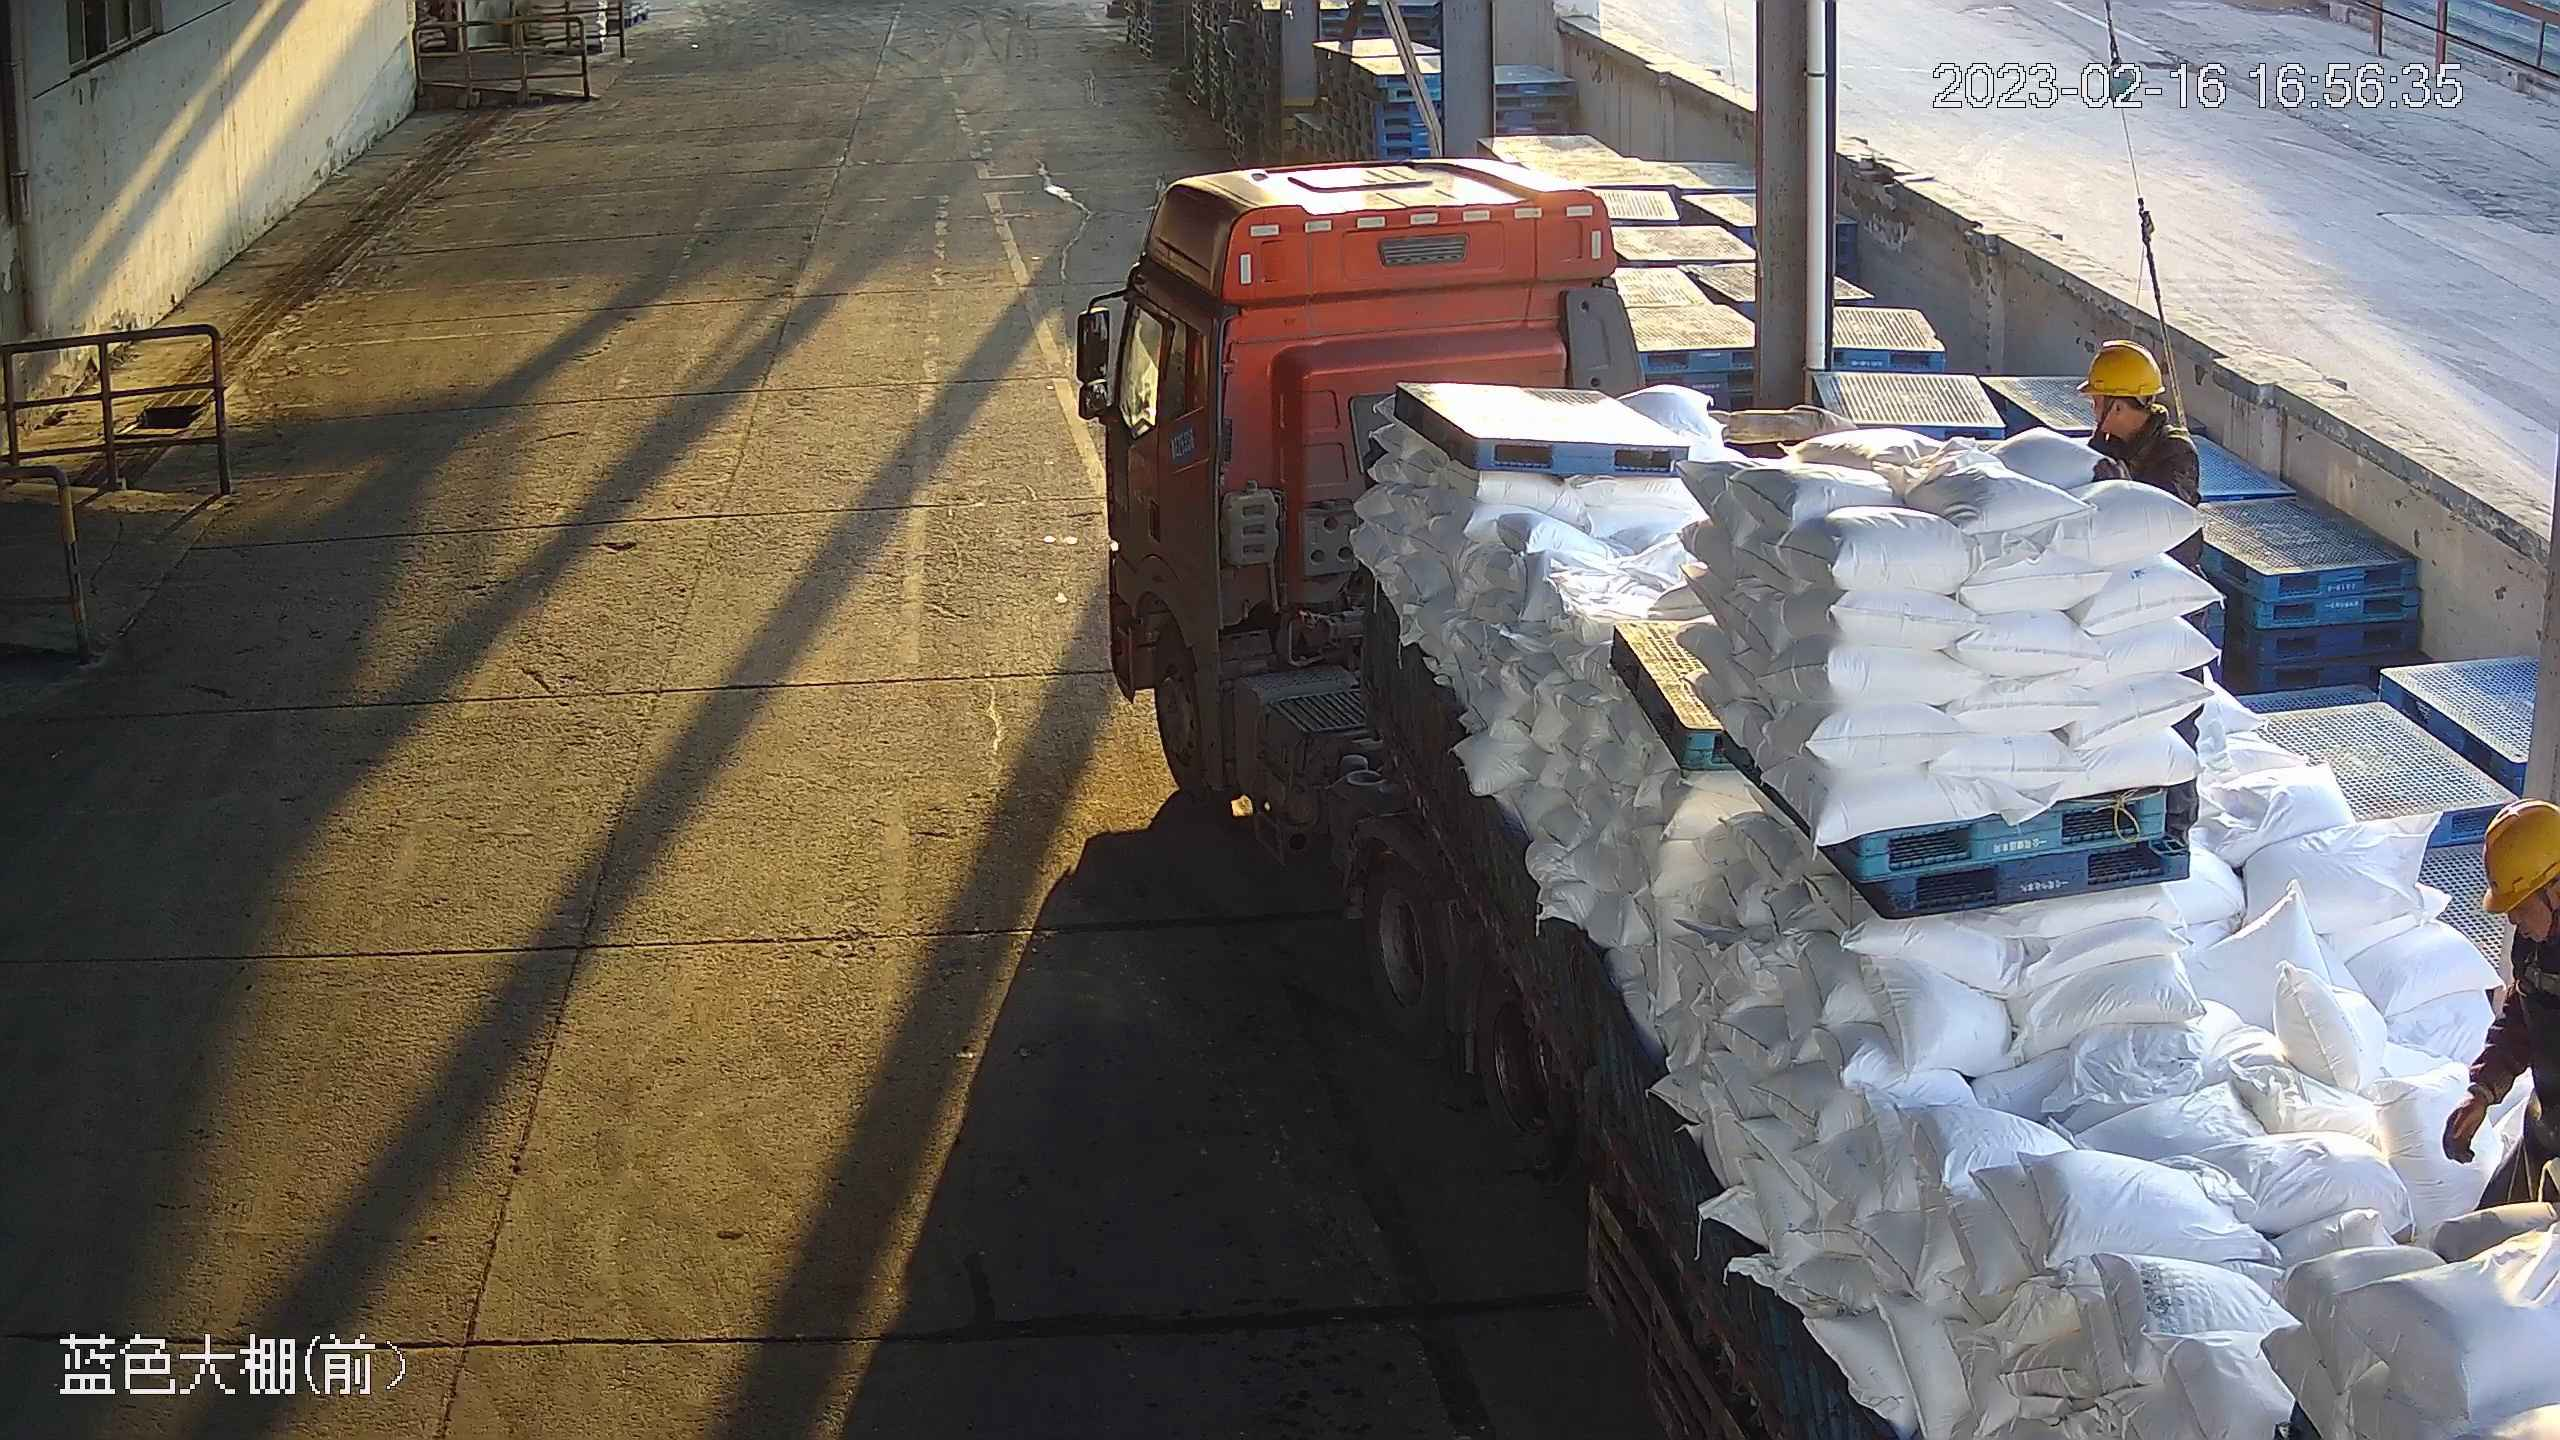belt: (2162, 379, 2214, 493)
head: (2079, 336, 2199, 501)
helmet: (2477, 804, 2560, 919), (2079, 340, 2173, 403)
truck: (1085, 180, 2560, 1440)
